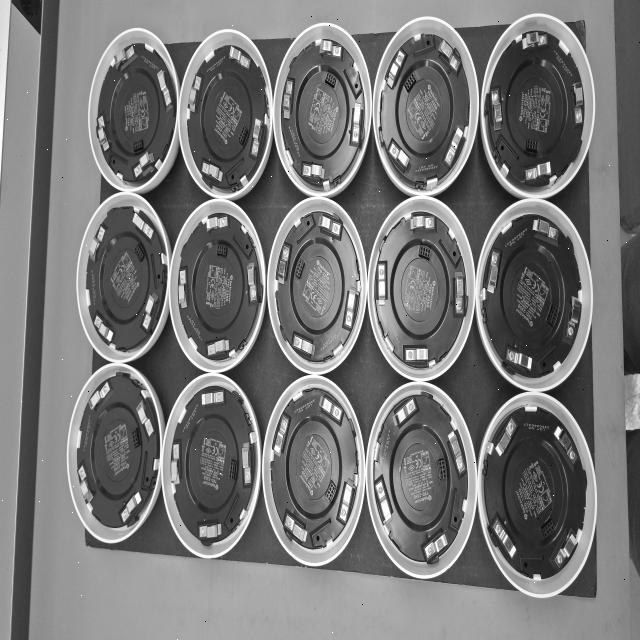yayli: (493, 518, 518, 566), (552, 421, 578, 466), (374, 478, 394, 531), (493, 416, 517, 460), (447, 424, 467, 476), (555, 526, 578, 570), (282, 512, 310, 548), (565, 292, 583, 344), (423, 528, 450, 562), (435, 38, 461, 73), (524, 159, 556, 187), (86, 380, 112, 414), (389, 142, 413, 178), (77, 464, 96, 509), (339, 474, 356, 524), (273, 413, 291, 460), (316, 395, 344, 425), (445, 125, 465, 167), (529, 215, 560, 242), (392, 398, 418, 430), (135, 396, 155, 437), (386, 49, 405, 91), (92, 313, 116, 346), (506, 346, 534, 374), (121, 489, 143, 524), (485, 249, 501, 297), (132, 208, 155, 241), (154, 66, 172, 108), (519, 30, 550, 54), (142, 290, 160, 330), (187, 74, 203, 118), (113, 44, 136, 74), (240, 439, 254, 488), (88, 225, 106, 263), (134, 149, 156, 180), (571, 76, 584, 128), (276, 244, 291, 289), (344, 281, 358, 329), (490, 88, 504, 135), (245, 254, 258, 304), (316, 213, 342, 238), (227, 43, 251, 70), (292, 333, 317, 358), (206, 333, 232, 357), (376, 258, 388, 310), (407, 211, 438, 231), (251, 115, 265, 159), (198, 388, 226, 410), (170, 439, 182, 490), (454, 265, 465, 319), (403, 344, 430, 366), (352, 97, 364, 146), (201, 160, 225, 184), (316, 37, 342, 59), (281, 78, 294, 122), (97, 114, 111, 153), (301, 161, 327, 182), (204, 215, 230, 236), (198, 521, 224, 542), (178, 268, 190, 312)
